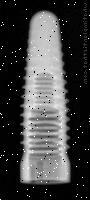Camlog: (16, 8, 84, 187)
